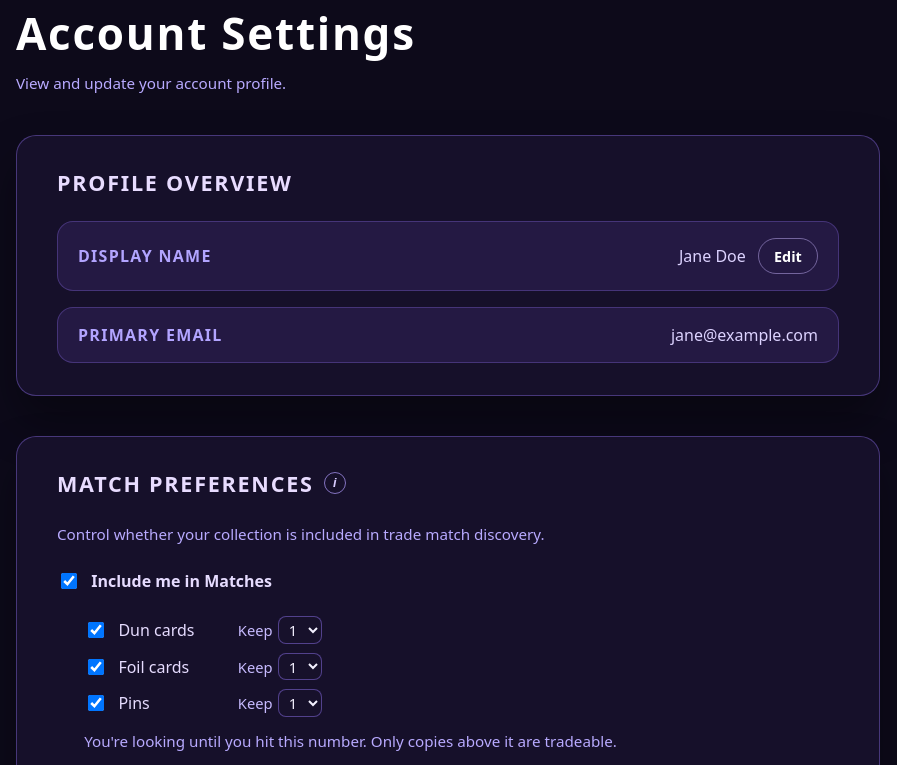
it: AccountPage › cancels display name editing without saving
Click the button "Edit". click: [788, 256]
box: [758,238,818,274]
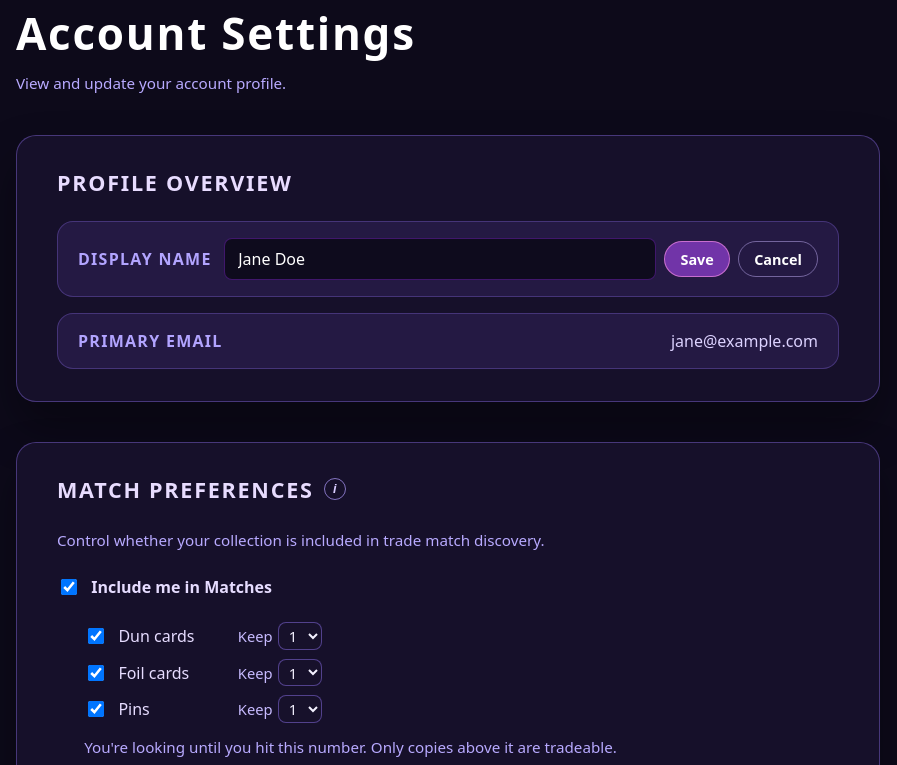
Replace the text in the field labelled "Display name" with "Someone Else". click: [440, 259]
box: [224,238,656,280]
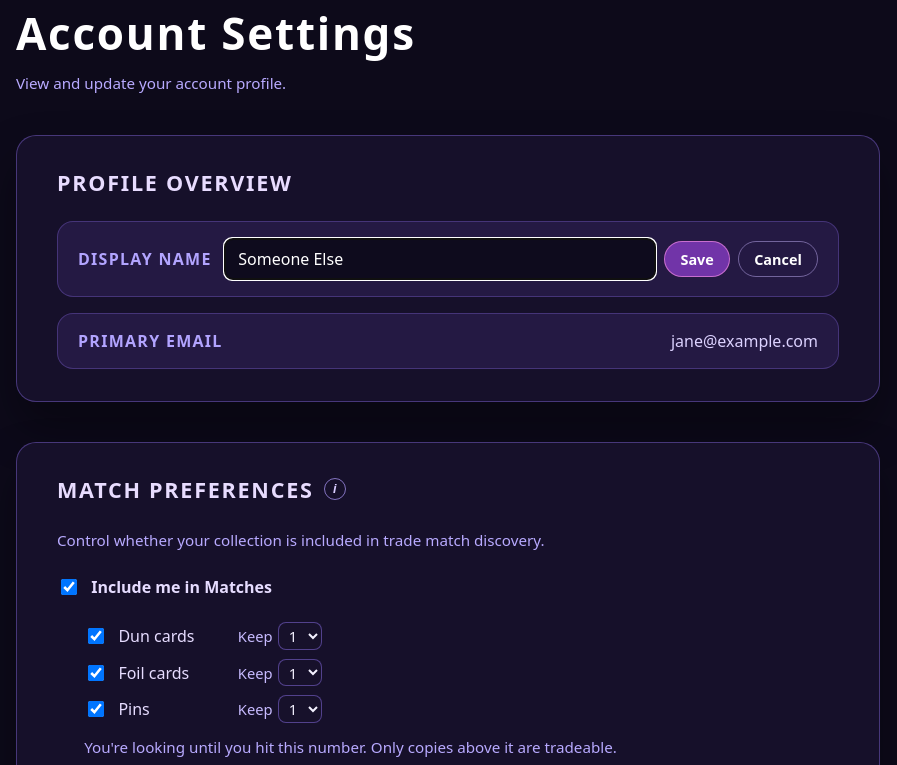
Click the button "Cancel". click: [778, 259]
box: [738,241,818,277]
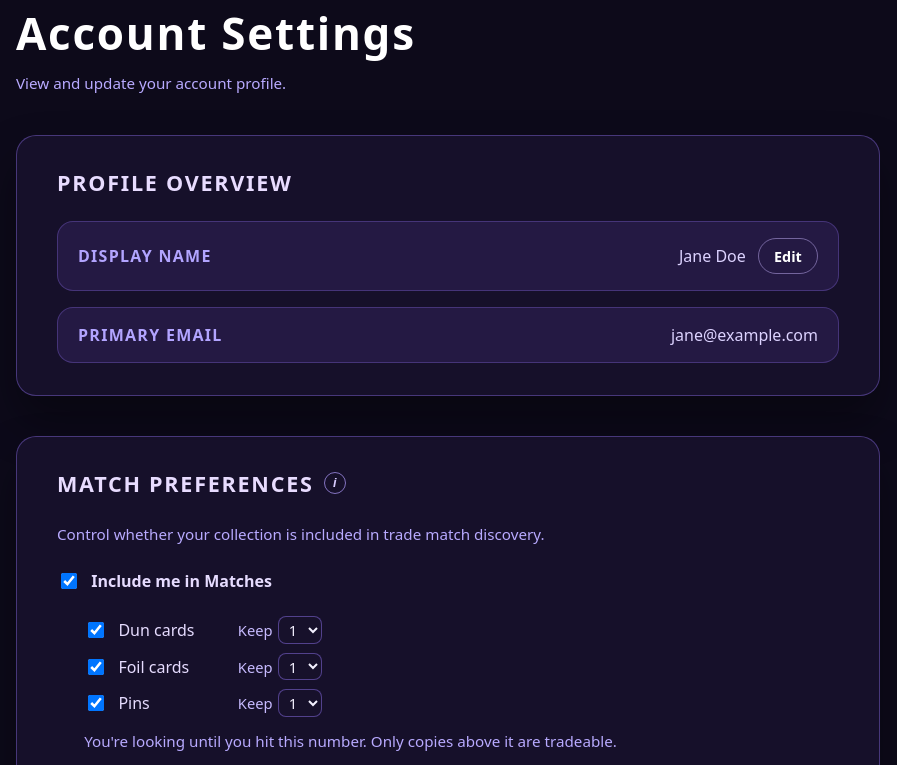
Check: the text "Jane Doe" is shown, box [679,245,746,267]
